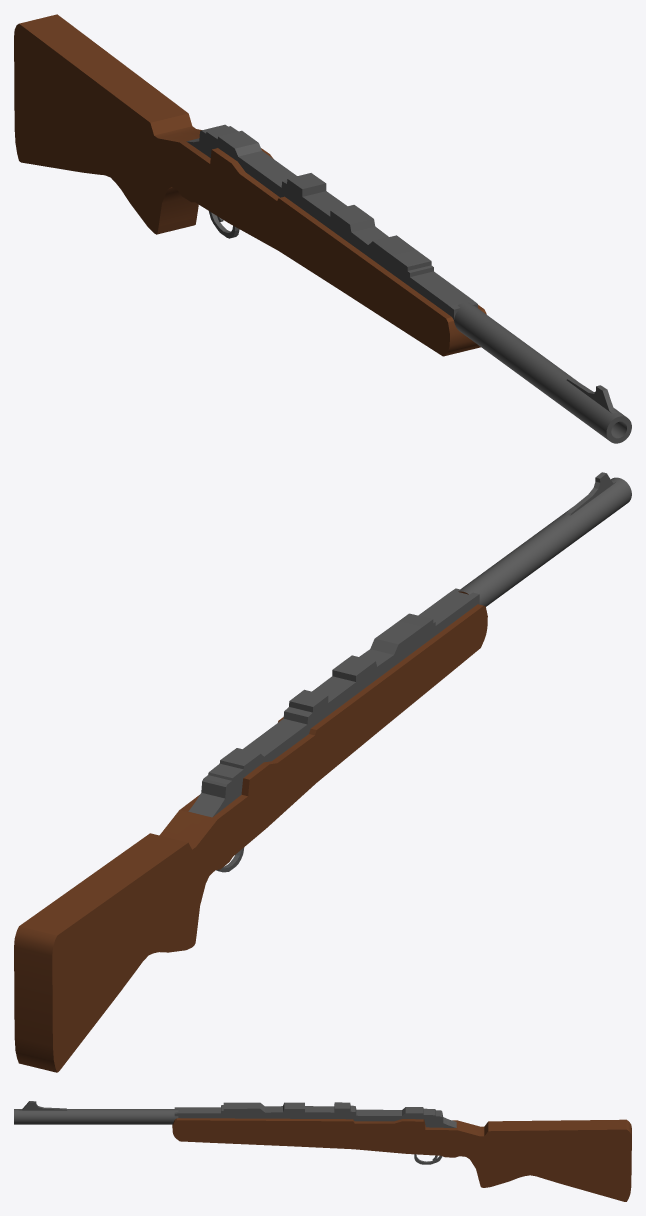
File: weapon4.fbx
The picture shows the model from 3 angles, top to bottom: view 1: azimuth 30°, elevation 25°; view 2: azimuth 150°, elevation 25°; view 3: azimuth 270°, elevation 25°; orthographic projection. The views are drawn at different scales.
Visible parts, largest first — view 1: Vert; view 2: Vert; view 3: Vert.
Part boxes in pixels (x1,y1,x2,y2): Vert: (14,14,631,443); Vert: (14,472,631,1072); Vert: (14,1101,631,1201).
Bounding box in the file's own units: 20 × 90.27 × 530.
